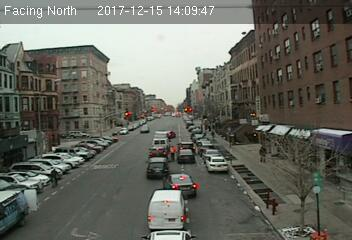bicycle: (48, 167, 59, 189)
car: (163, 173, 197, 197), (146, 158, 168, 178), (204, 157, 228, 171), (177, 150, 194, 163), (148, 146, 167, 157), (177, 141, 194, 148)
pedestrian: (257, 145, 267, 164)
truck: (147, 188, 187, 230), (1, 189, 27, 236), (152, 131, 169, 147)
